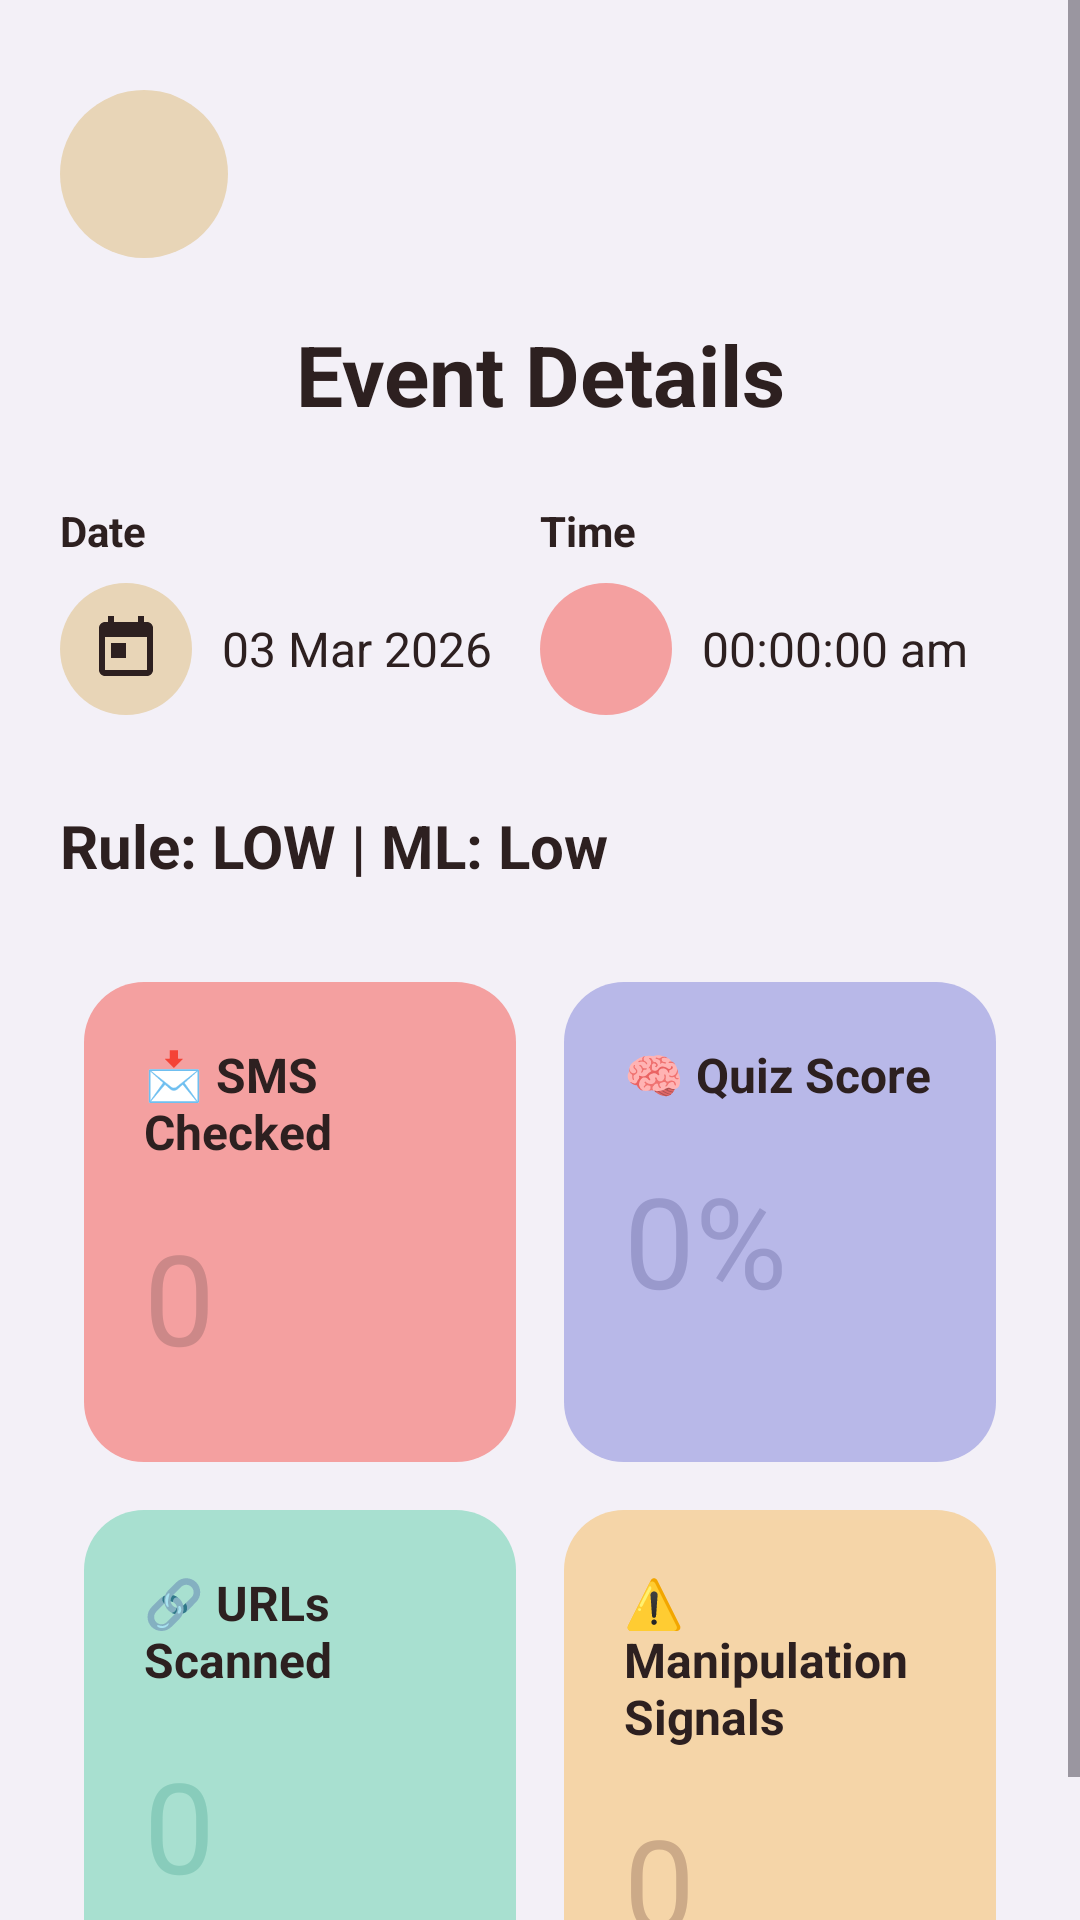

Screen size 1080*1920. Icon name, then its box in pixels as [x1,y1,x2,y2]:
calendar: [60,583,192,715]
